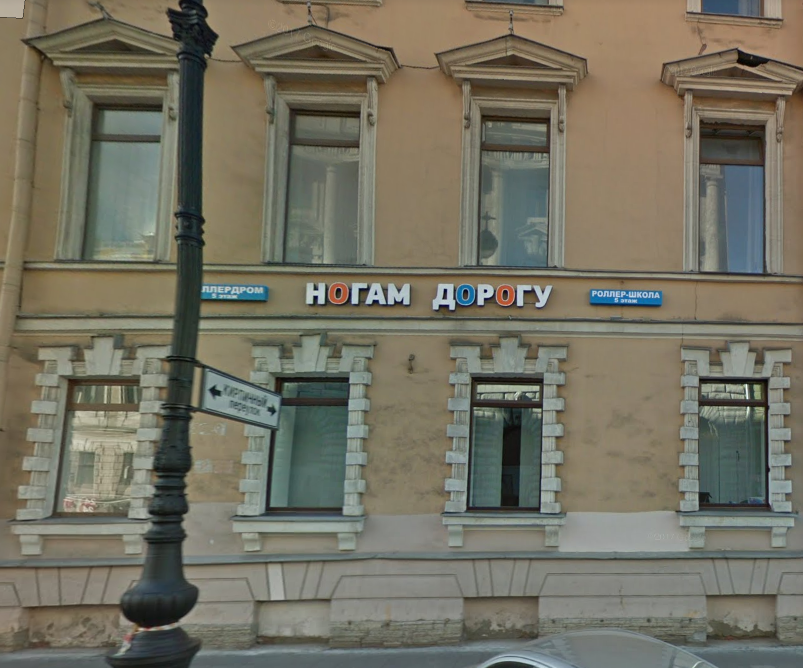signboard: (201, 281, 663, 312)
window: (277, 102, 363, 263), (468, 100, 549, 264), (693, 110, 769, 272), (84, 102, 161, 254), (58, 380, 130, 519), (279, 380, 351, 518), (697, 375, 768, 513), (467, 376, 539, 510)
